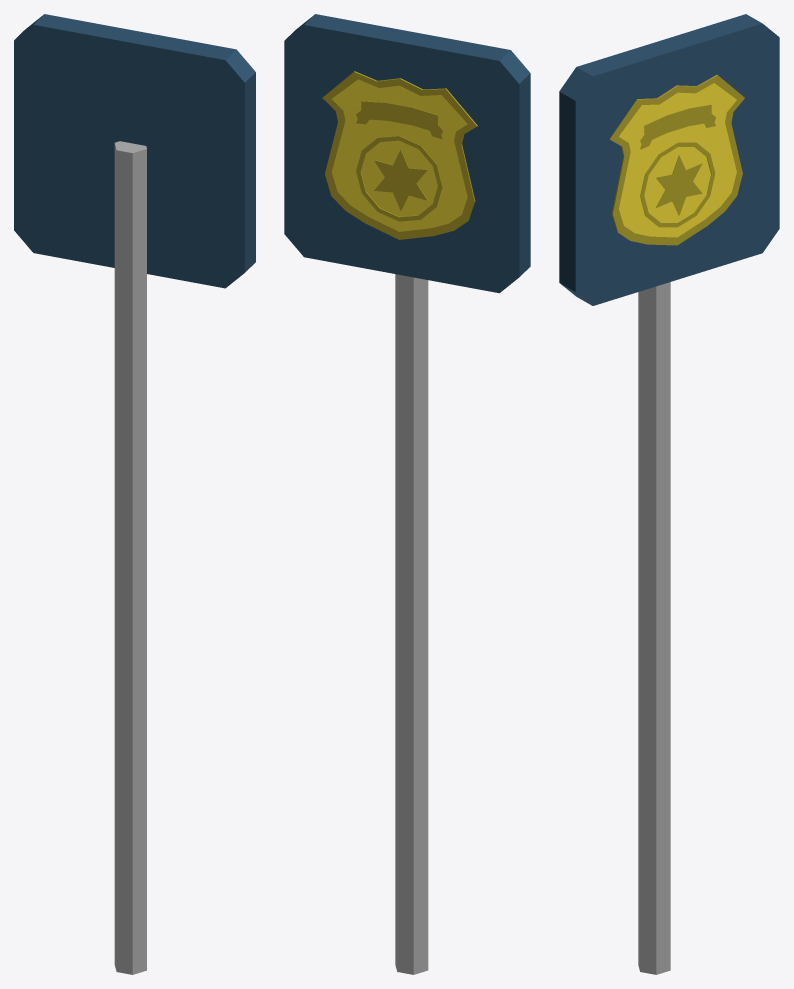
The model's file is Police Sign.fbx.
3 views of the same model, side by side, from view 1: azimuth 30°, elevation 25°; view 2: azimuth 210°, elevation 25°; view 3: azimuth 270°, elevation 25° (orthographic).
Parts seen in each view (by area): view 1: Police Sign; view 2: Police Sign; view 3: Police Sign.
Part boxes in pixels (box(x1,y1,x2,y2)): Police Sign: box(14, 14, 255, 974); Police Sign: box(284, 14, 530, 974); Police Sign: box(559, 14, 779, 974).
Size of the model in its own units: 57.9 by 73.82 by 343.
